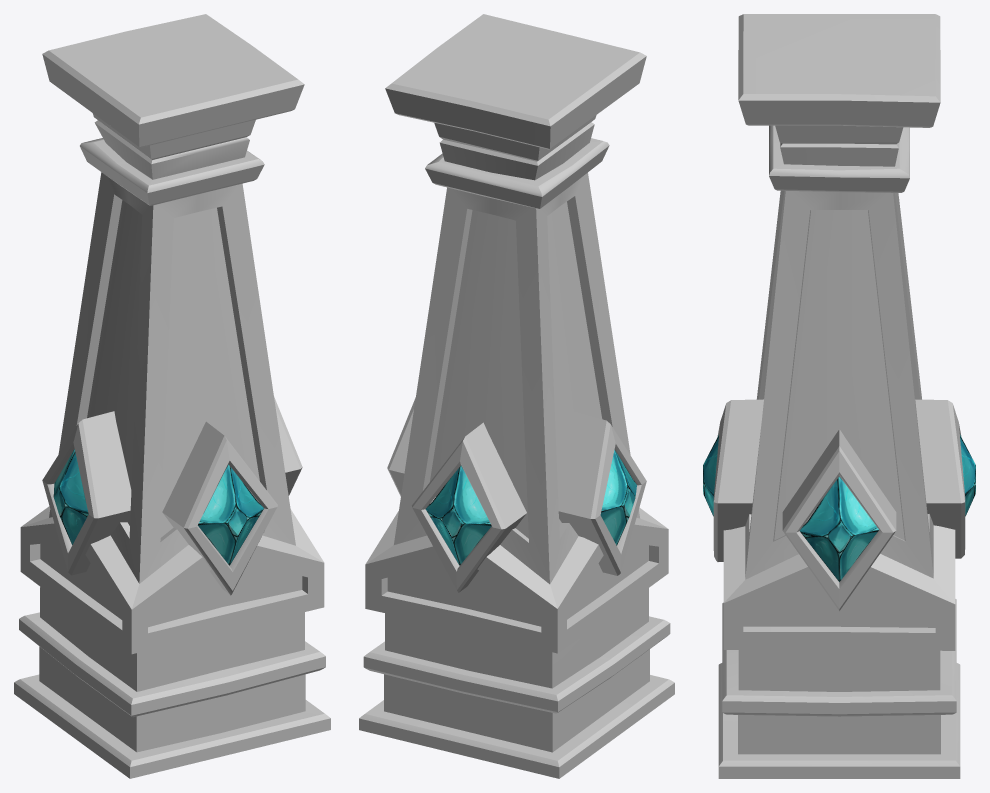
File: Moonset_FBX_pillar_03.fbx
The picture shows the model from 3 angles, left to right: view 1: azimuth 30°, elevation 25°; view 2: azimuth 150°, elevation 25°; view 3: azimuth 270°, elevation 25°; orthographic projection. The views are drawn at different scales.
Visible parts, largest first — view 1: Pillar_03; view 2: Pillar_03; view 3: Pillar_03.
Boxes of the visible parts, left/top/right/bottom form: Pillar_03: left=14, top=14, right=330, bottom=778; Pillar_03: left=359, top=14, right=674, bottom=778; Pillar_03: left=703, top=14, right=975, bottom=778.
Bounding box in the file's own units: 2.55 × 6.97 × 2.55.
